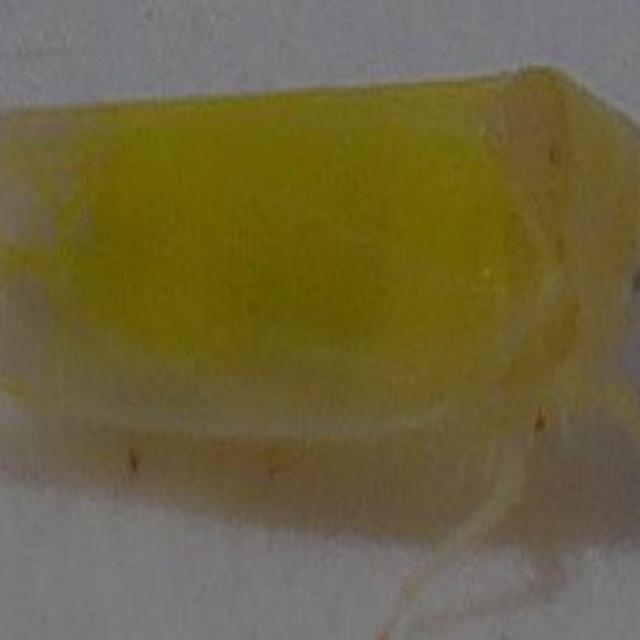green-leafhopper: (0, 61, 638, 638)
